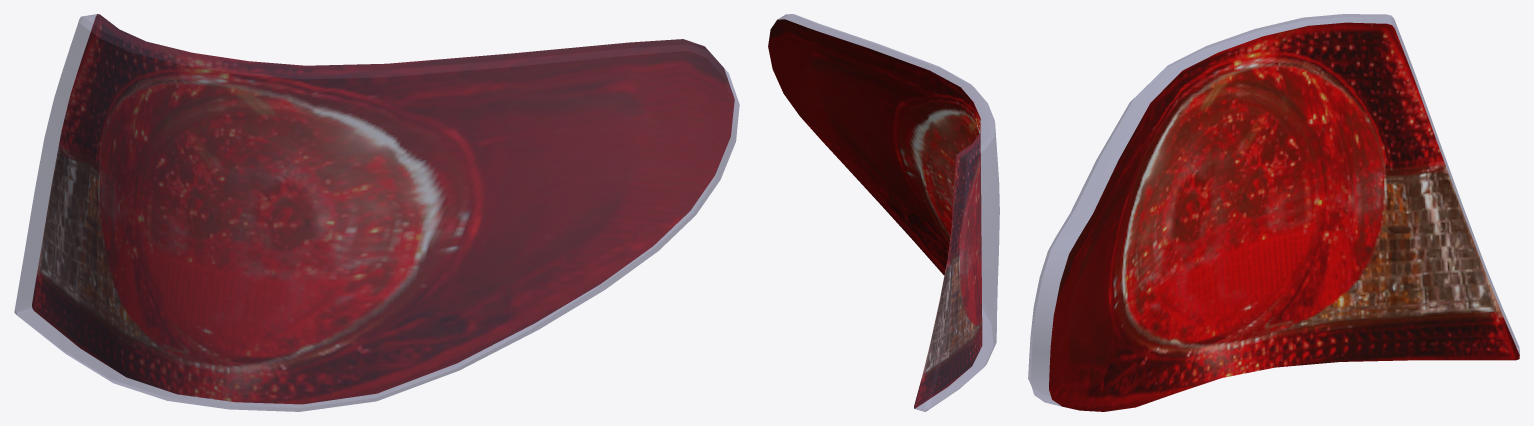
3 views of the same model, side by side, from view 1: azimuth 30°, elevation 25°; view 2: azimuth 150°, elevation 25°; view 3: azimuth 270°, elevation 25° (orthographic). The views are drawn at different scales.
Parts seen in each view (by area): view 1: Y211_541C_R_Y211_541C_R_1_DTaSI, Y211_541C_R_2_N_Y211_541C_R; view 2: Y211_541C_R_2_N_Y211_541C_R, Y211_541C_R_Y211_541C_R_1_DTaSI; view 3: Y211_541C_R_2_N_Y211_541C_R, Y211_541C_R_Y211_541C_R_1_DTaSI.
Boxes of the visible parts, bbox=[...] form: Y211_541C_R_Y211_541C_R_1_DTaSI: bbox=[14, 14, 739, 411]; Y211_541C_R_2_N_Y211_541C_R: bbox=[32, 14, 734, 404]; Y211_541C_R_2_N_Y211_541C_R: bbox=[768, 19, 982, 408]; Y211_541C_R_Y211_541C_R_1_DTaSI: bbox=[778, 14, 999, 411]; Y211_541C_R_2_N_Y211_541C_R: bbox=[1049, 22, 1519, 411]; Y211_541C_R_Y211_541C_R_1_DTaSI: bbox=[1028, 14, 1519, 406].
Bounding box in the file's own units: 33.87 × 22.78 × 29.82.
